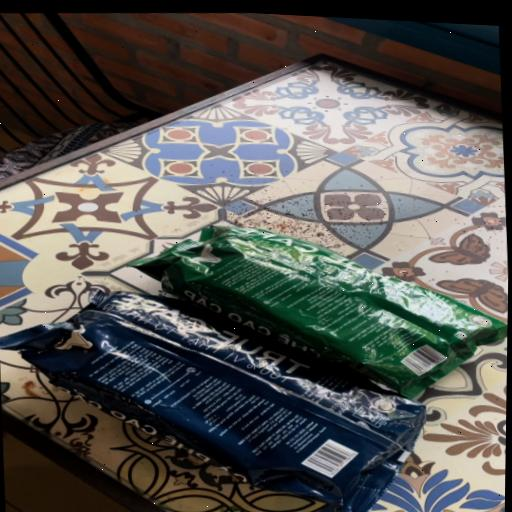cafe_hat: (0, 288, 426, 512)
cafe_xay: (133, 225, 508, 398)
